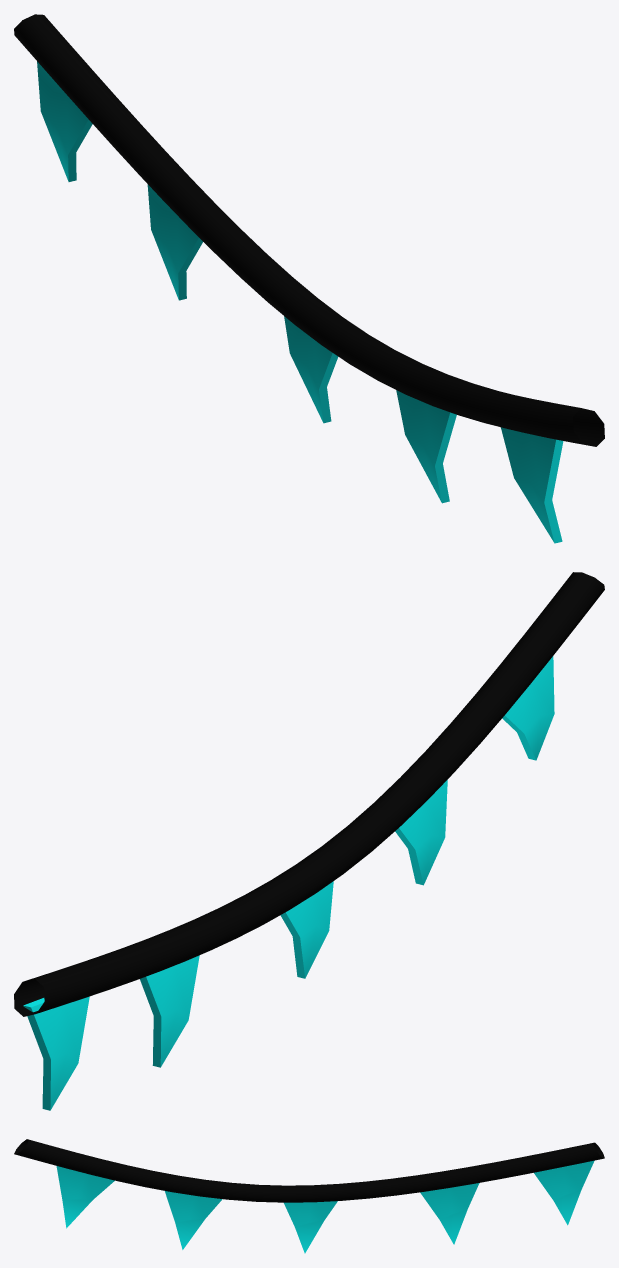
Rendered from ropewithflags.fbx.
The picture shows the model from 3 angles, top to bottom: view 1: azimuth 30°, elevation 25°; view 2: azimuth 150°, elevation 25°; view 3: azimuth 270°, elevation 25°; orthographic projection. The views are drawn at different scales.
Visible parts, largest first — view 1: sweep2; view 2: sweep2; view 3: sweep2.
Boxes of the visible parts, x1,y1,x2,y2 form: sweep2: [14, 14, 604, 543]; sweep2: [14, 572, 604, 1110]; sweep2: [14, 1139, 604, 1253].
Bounding box in the file's own units: 2.11 × 13.33 × 64.9.
